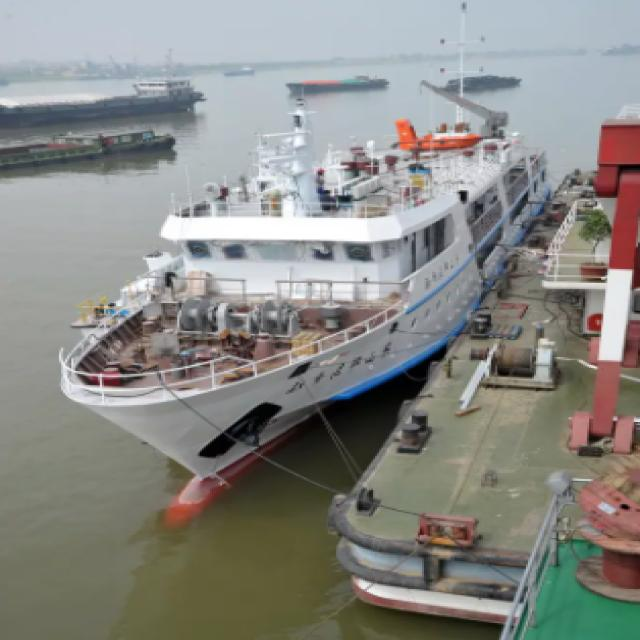houseboat: (59, 121, 572, 473)
